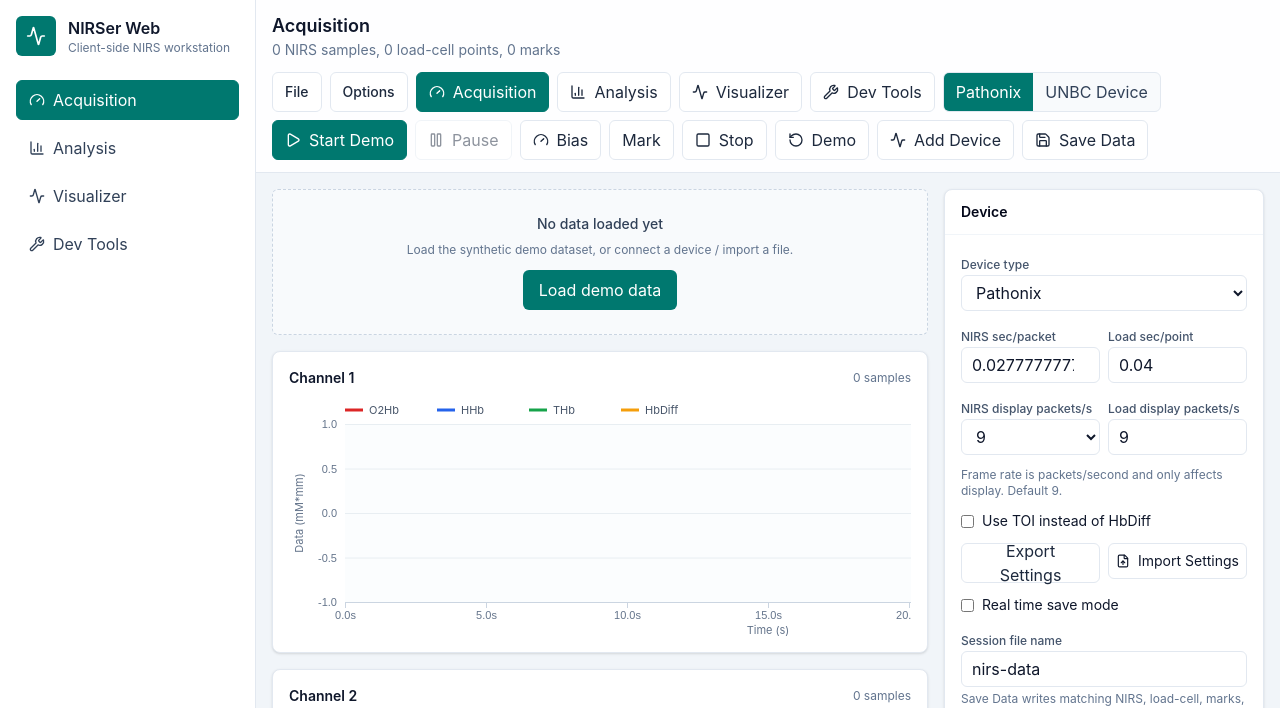
Test case: App shell & navigation › switches to the Analysis view
What coordinates should you click on to do the following:
click the button "Analysis" below "Client-side NIRS workstation"
I would click on:
 (128, 148)
Its box is [16,128,239,168].
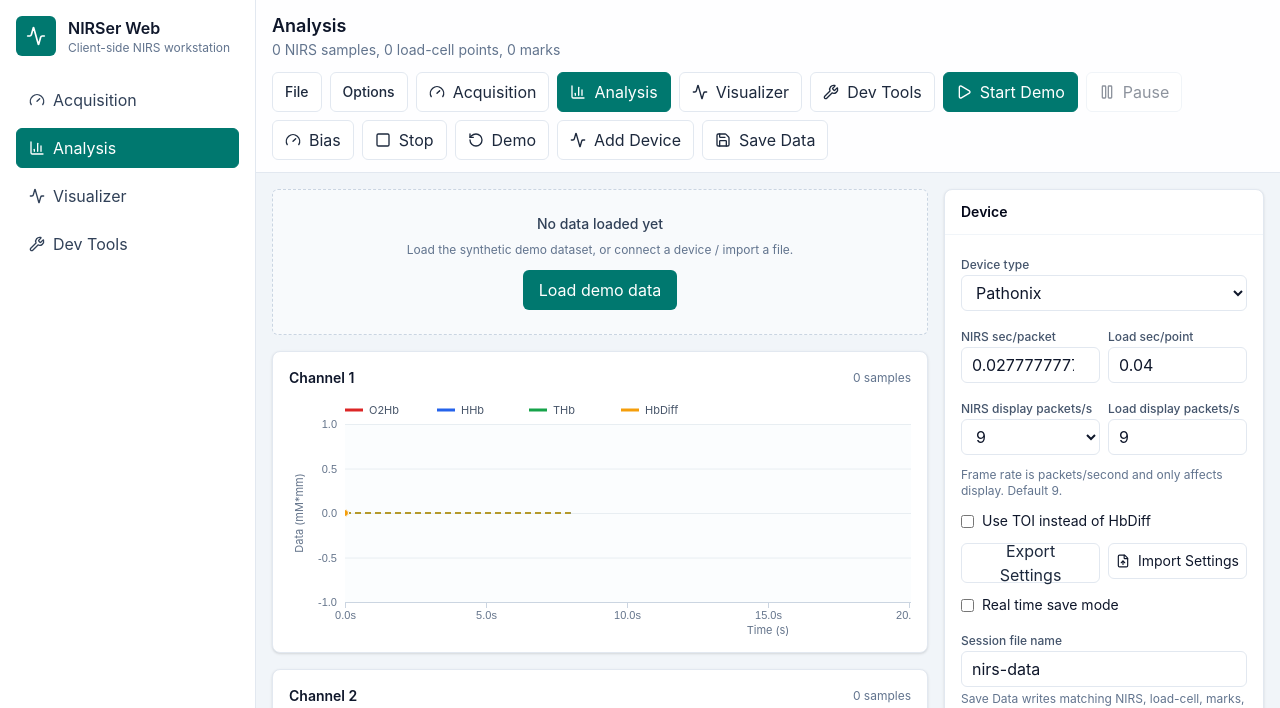
Expected: the heading "analysis" is shown, [272,15,346,36]
